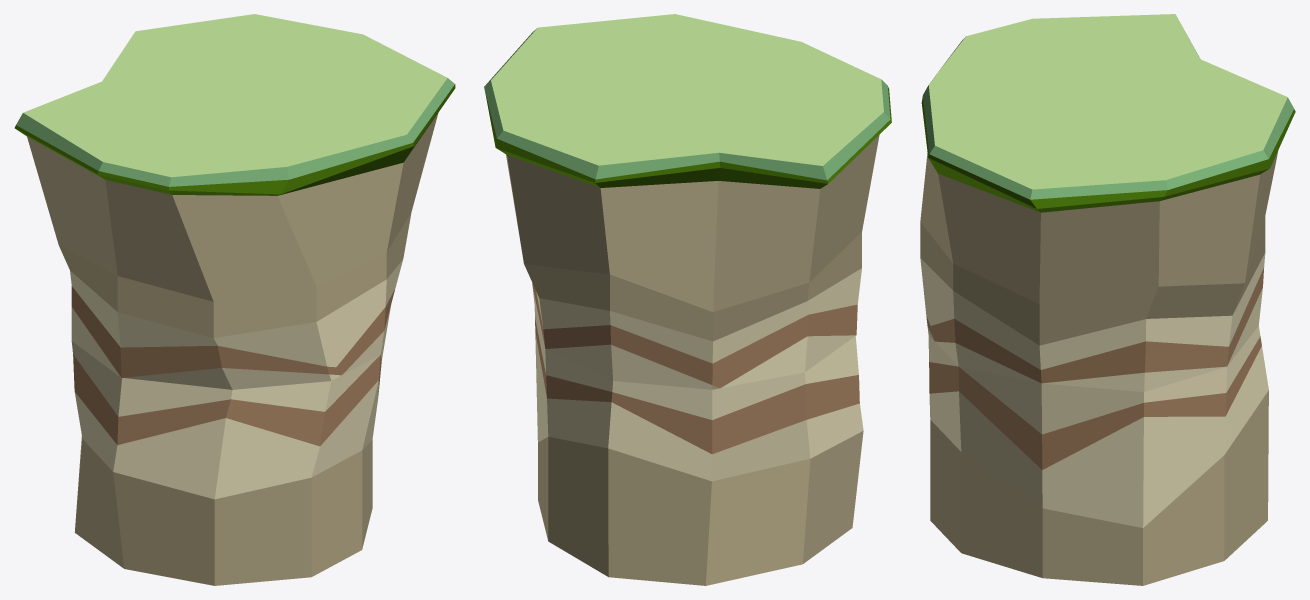
The model's file is cliff1.fbx.
The picture shows the model from 3 angles, left to right: view 1: azimuth 30°, elevation 25°; view 2: azimuth 150°, elevation 25°; view 3: azimuth 270°, elevation 25°; orthographic projection.
Parts seen in each view (by area): view 1: Cylinder; view 2: Cylinder; view 3: Cylinder.
Boxes of the visible parts, box(x1,y1,x2,y2) form: Cylinder: box(14, 14, 455, 585); Cylinder: box(484, 14, 891, 585); Cylinder: box(920, 14, 1295, 585).
Bounding box in the file's own units: 268 × 287 × 231.
